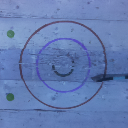Axe Tip: (91, 76, 102, 78)
